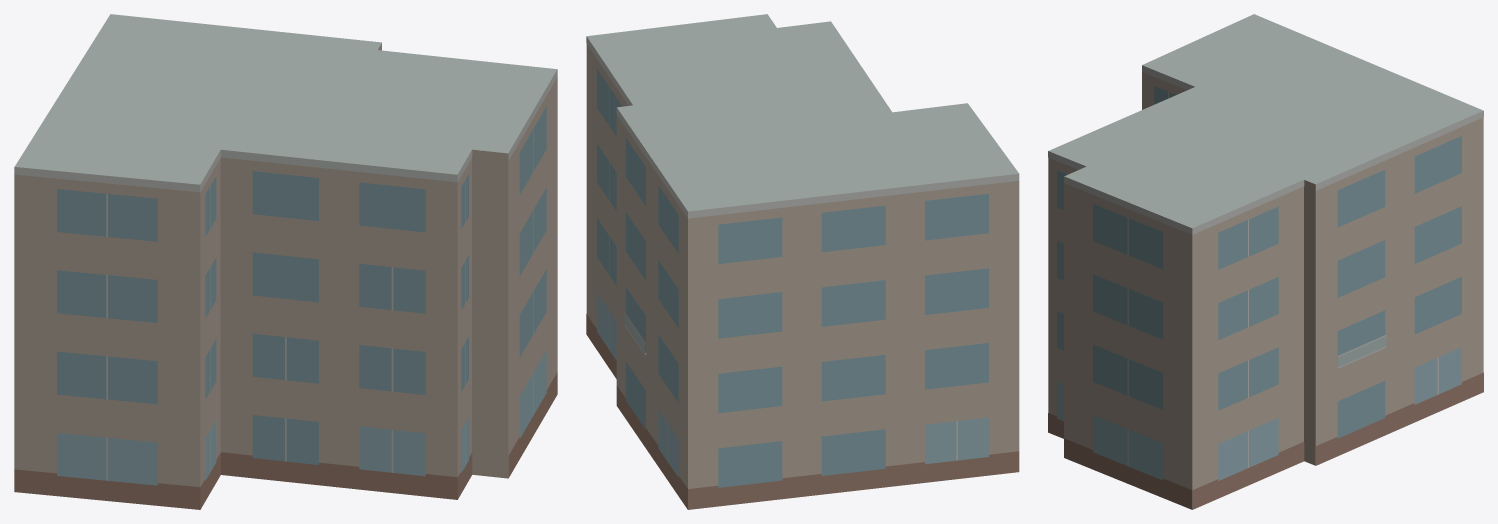
Rendered from survey-upis-32962184.glb.
3 views of the same model, side by side, from view 1: azimuth 30°, elevation 25°; view 2: azimuth 150°, elevation 25°; view 3: azimuth 270°, elevation 25° (orthographic). The views are drawn at different scales.
Parts seen in each view (by area): view 1: survey-upis-32962184.tmp; view 2: survey-upis-32962184.tmp; view 3: survey-upis-32962184.tmp.
Boxes of the visible parts, <box> form: survey-upis-32962184.tmp: <box>14,14,557,509</box>; survey-upis-32962184.tmp: <box>586,14,1019,509</box>; survey-upis-32962184.tmp: <box>1048,14,1483,509</box>.
Bounding box in the file's own units: 16.99 × 10.4 × 14.59.
